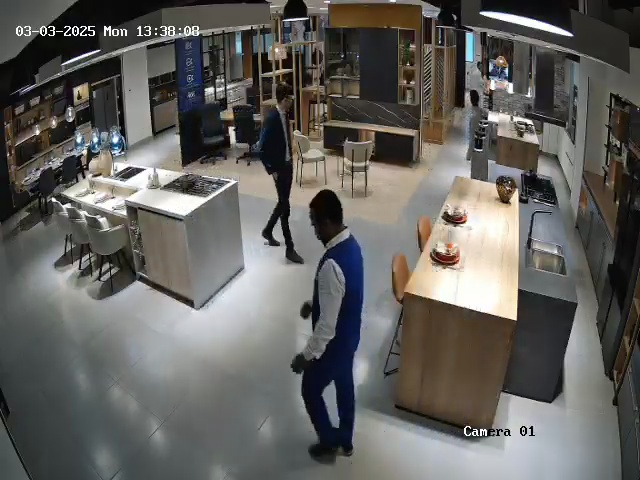employee: (291, 189, 364, 461)
male: (257, 82, 304, 265), (468, 55, 488, 115)
